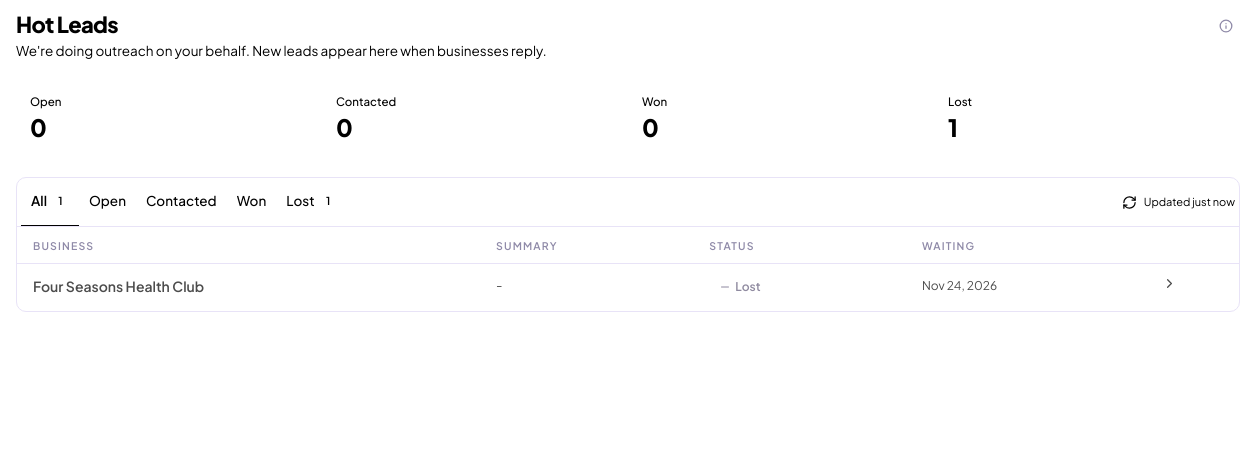
Test: Dashboard: status filters › shows the lost lead under Lost and hides it under Open
What coordinates should you click on to do the following:
click the button "Lost 1" in the row of "Updated just now"
I would click on:
 (311, 203)
Its box is [276,178,347,227].
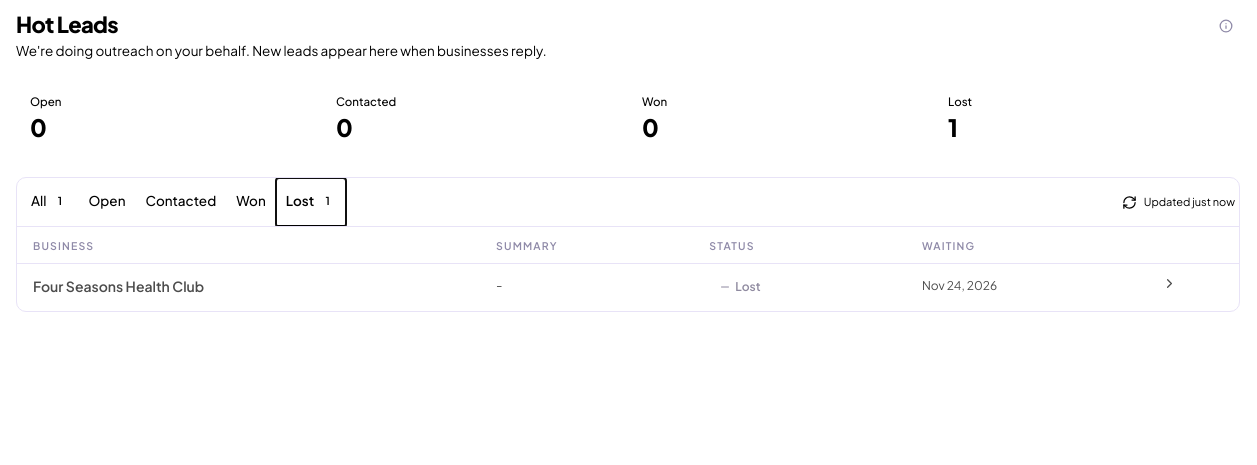
What coordinates should you click on to do the following:
click the button "Open"
I would click on:
 (107, 203)
Its box is [78,178,136,227].
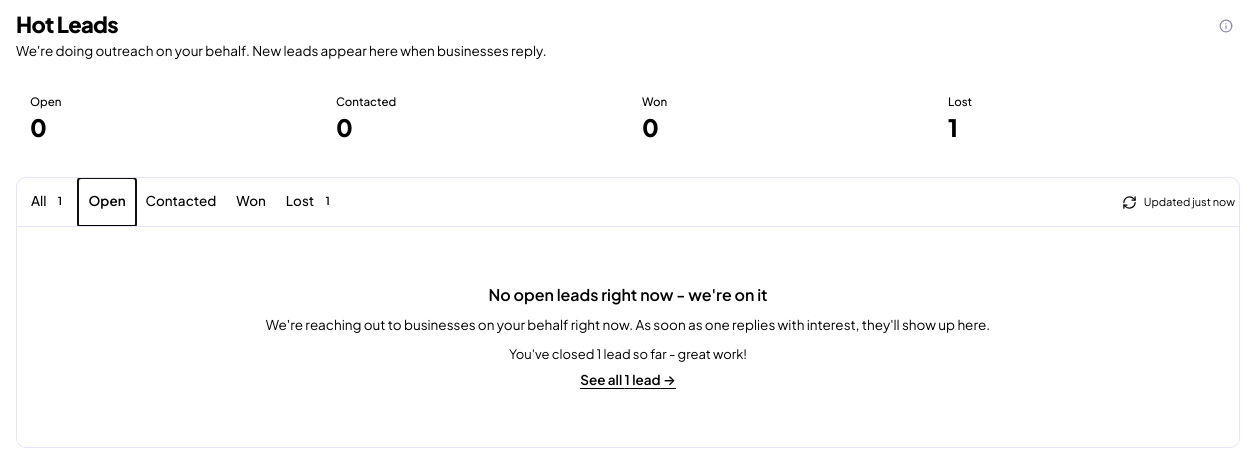
Result: the text "Four Seasons Health Club" is not shown
